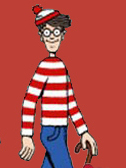waldo: (32, 5, 71, 53)
